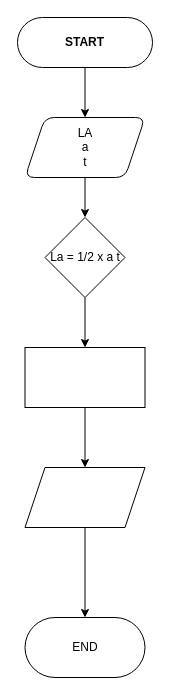
Some shapes in this 170 by 695 pixel diagram are drawn without their labels. The centre of each missing label's shape, as x and y in pixels:
"1/2 x axt" belongs at point 84,377.
"la" belongs at point 84,497.
